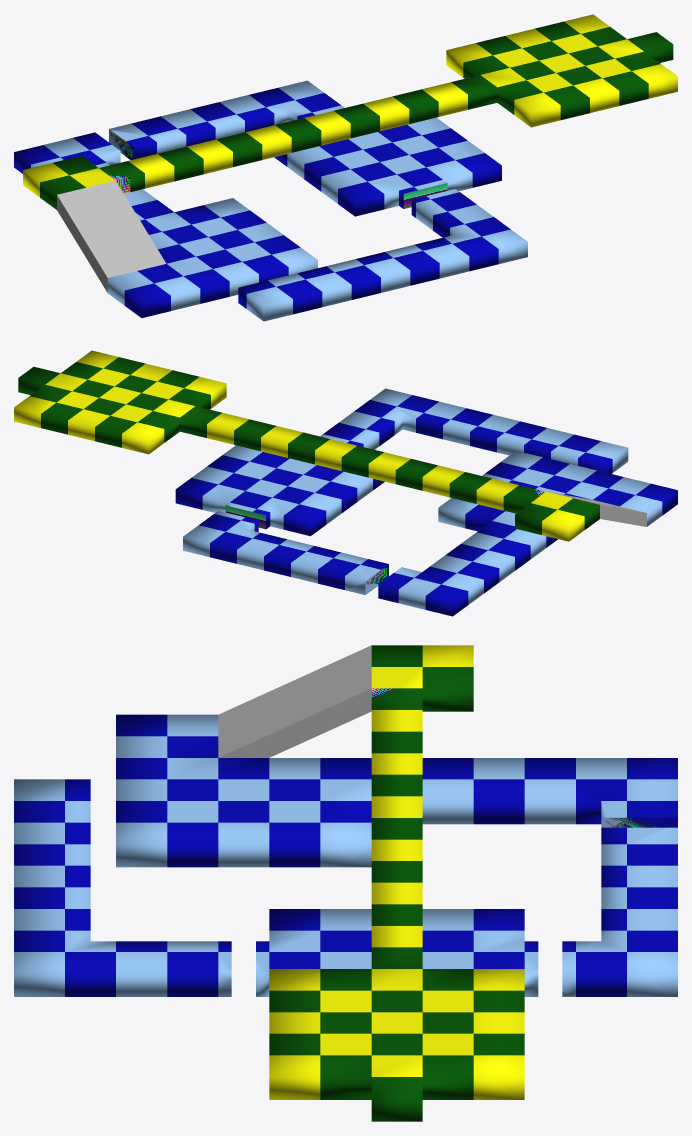
3 renders of one model, top to bottom at view 1: azimuth 30°, elevation 25°; view 2: azimuth 150°, elevation 25°; view 3: azimuth 270°, elevation 25°, orthographic. The views are drawn at different scales.
Visible parts, largest first — view 1: Untitled; view 2: Untitled; view 3: Untitled.
Boxes of the visible parts, x1,y1,x2,y2 form: Untitled: [14, 14, 677, 321]; Untitled: [14, 350, 677, 616]; Untitled: [14, 645, 677, 1121].
Bounding box in the file's own units: 4.2 × 0.4 × 2.6.
Materials: 1 (1 with a texture image).
